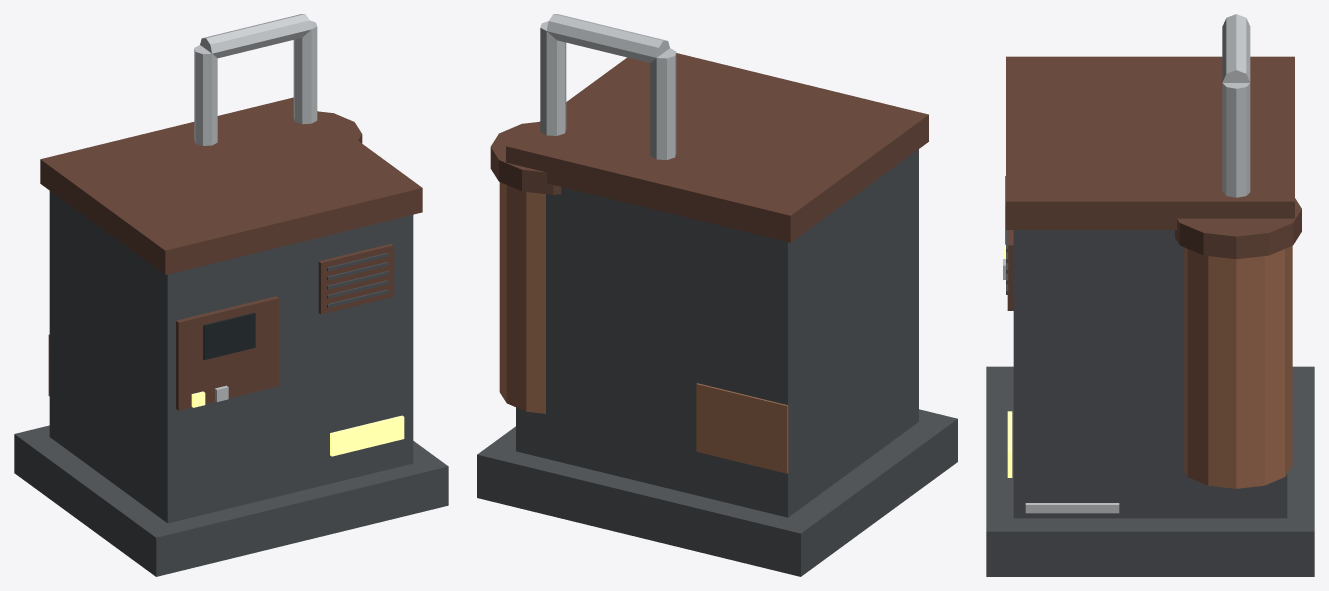
Rendered from IndustrialMachine.fbx.
The picture shows the model from 3 angles, left to right: view 1: azimuth 30°, elevation 25°; view 2: azimuth 150°, elevation 25°; view 3: azimuth 270°, elevation 25°; orthographic projection. The views are drawn at different scales.
Parts seen in each view (by area): view 1: IndustrialMachine; view 2: IndustrialMachine; view 3: IndustrialMachine.
Part boxes in pixels (left/top/right/bottom): IndustrialMachine: left=14, top=14, right=448, bottom=576; IndustrialMachine: left=477, top=14, right=957, bottom=576; IndustrialMachine: left=986, top=14, right=1314, bottom=576.
Size of the model in its own units: 2.62 by 3.44 by 2.1.
